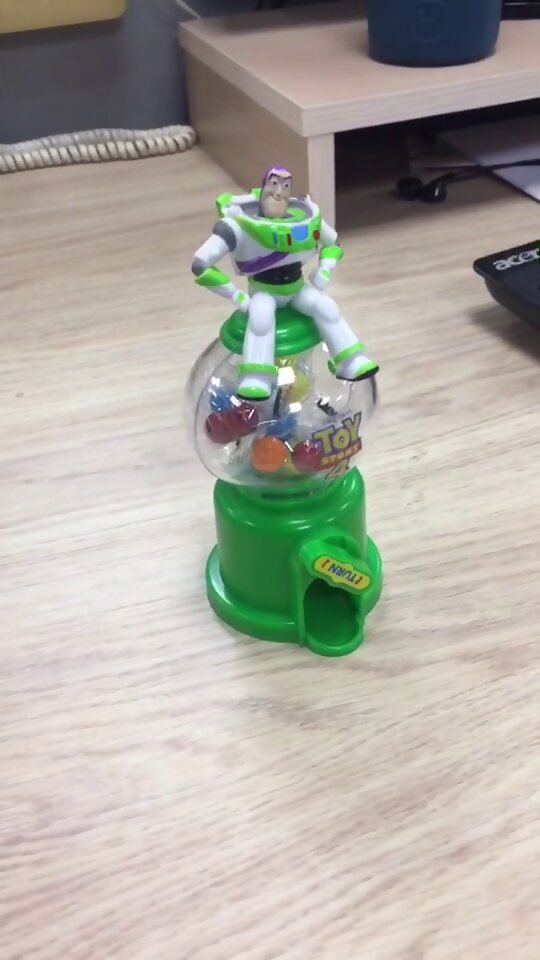buzz: (179, 159, 391, 655)
